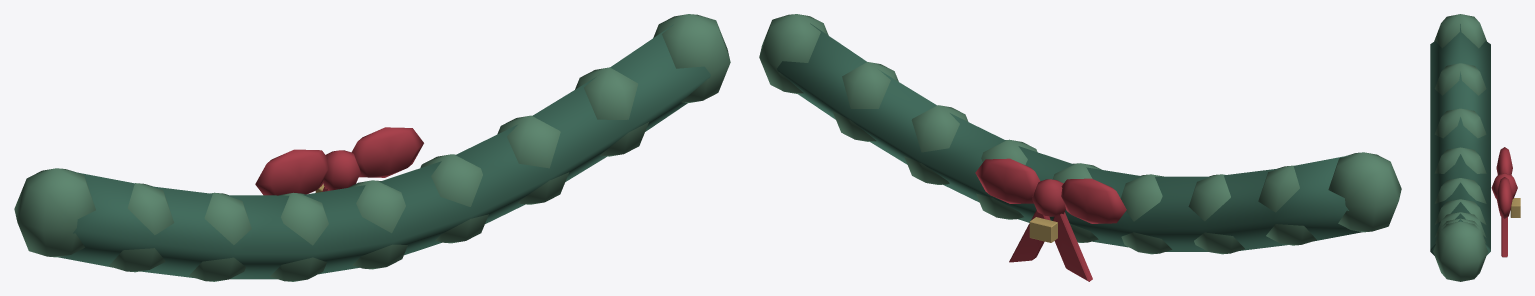
Rendered from garland_low.glb.
3 renders of one model, left to right at view 1: azimuth 30°, elevation 25°; view 2: azimuth 150°, elevation 25°; view 3: azimuth 270°, elevation 25°, orthographic. The views are drawn at different scales.
Bounding box in the file's own units: 1 × 0.2495 × 0.164.
